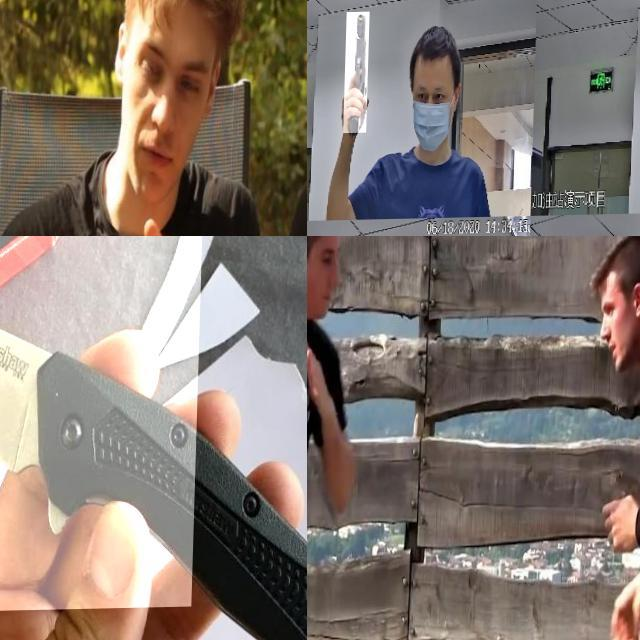-: (0, 236, 214, 616), (307, 312, 328, 450)
gun-knife-thesis - v11 Yolov5 augmented: (344, 12, 370, 134)
